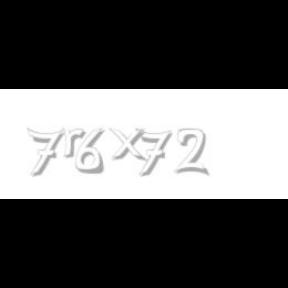2: (174, 128, 208, 176)
6: (76, 128, 104, 176)
7: (26, 128, 64, 178), (136, 128, 172, 178)
r: (62, 128, 88, 158)
x: (109, 128, 151, 162)
